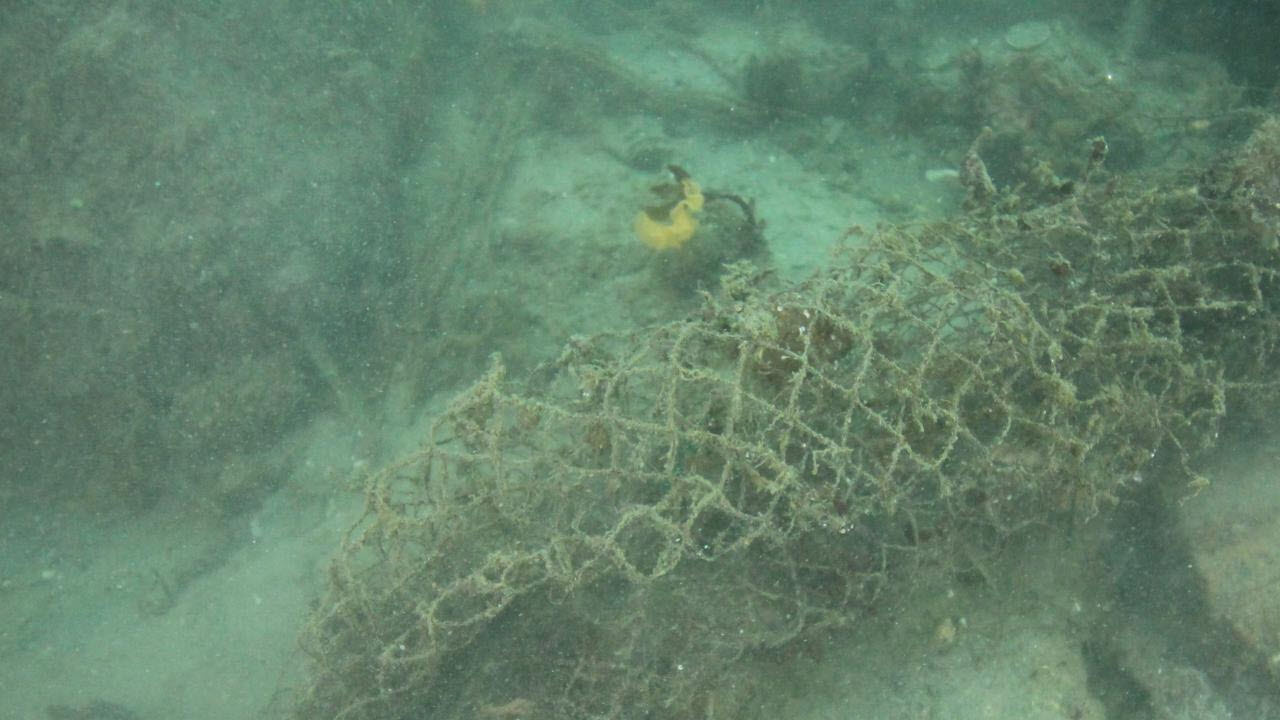fish net: (254, 163, 1279, 719)
